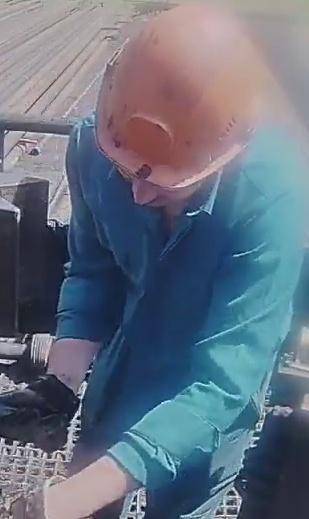gloves: (0, 379, 85, 453), (0, 472, 66, 519)
helmet: (92, 2, 272, 192)
vest: (66, 118, 308, 462)
